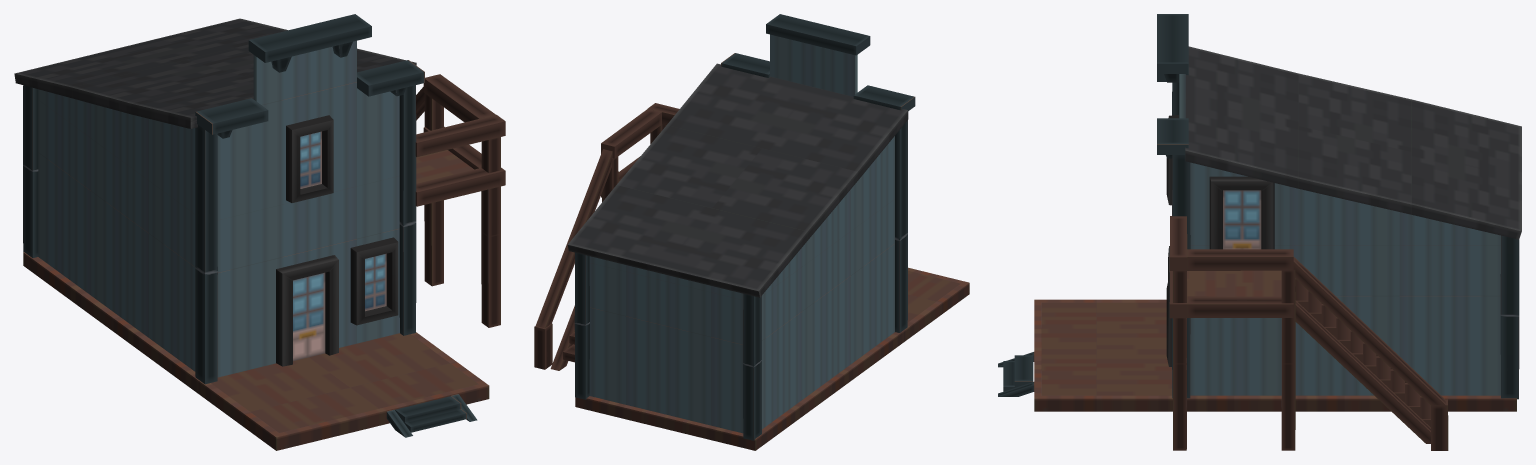
File: house_v4_034.fbx
3 views of the same model, side by side, from view 1: azimuth 30°, elevation 25°; view 2: azimuth 150°, elevation 25°; view 3: azimuth 270°, elevation 25° (orthographic). The views are drawn at different scales.
Parts seen in each view (by area): view 1: house_v4_034; view 2: house_v4_034; view 3: house_v4_034.
Boxes of the visible parts, box(x1,y1,x2,y2) form: house_v4_034: box(14, 14, 505, 450); house_v4_034: box(534, 14, 969, 450); house_v4_034: box(998, 14, 1521, 450).
Size of the model in its own units: 613 by 649 by 951.
